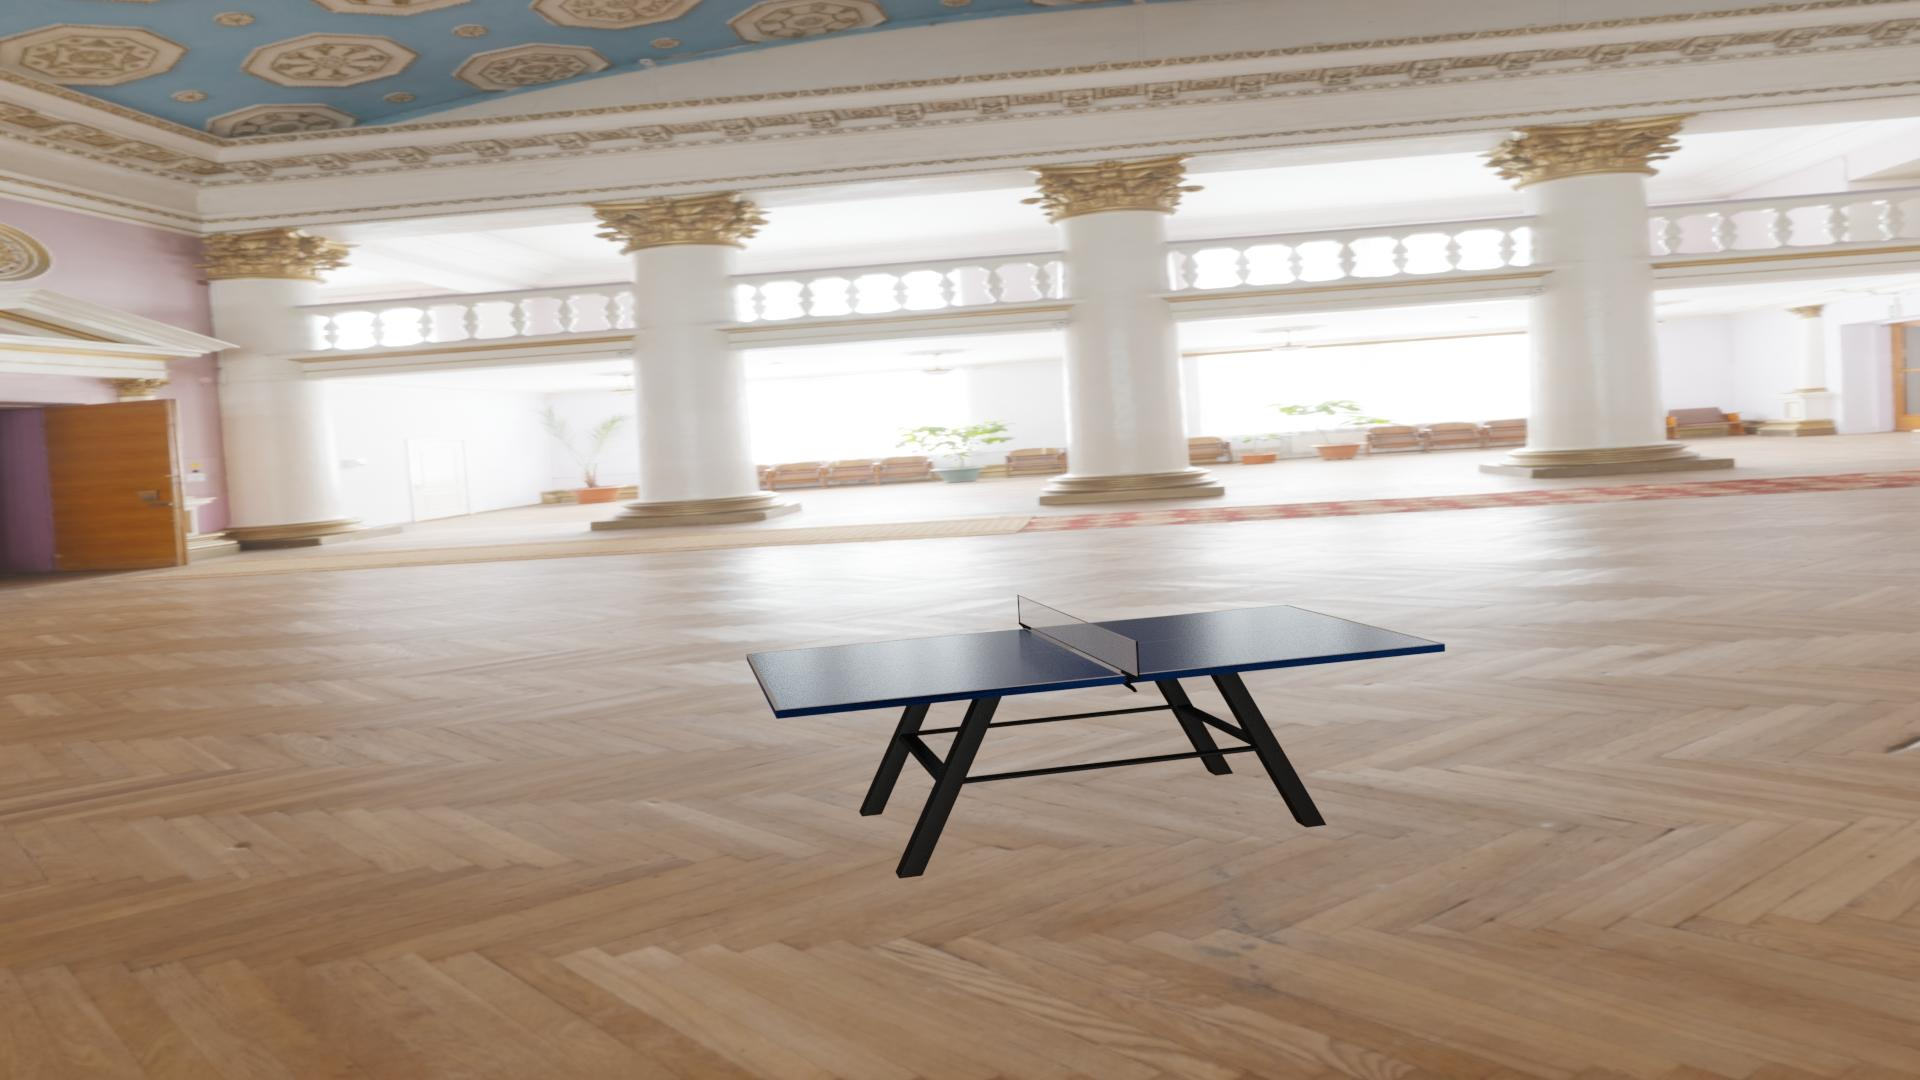table: (750, 605, 1439, 709)
